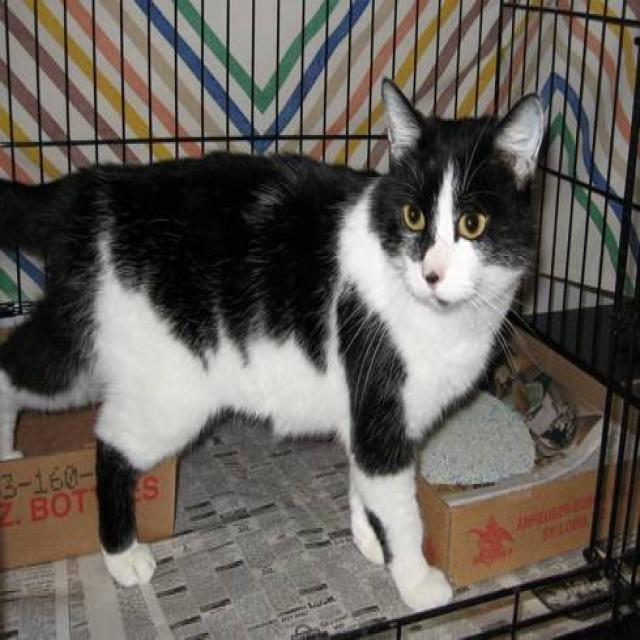cat: (0, 74, 546, 612)
